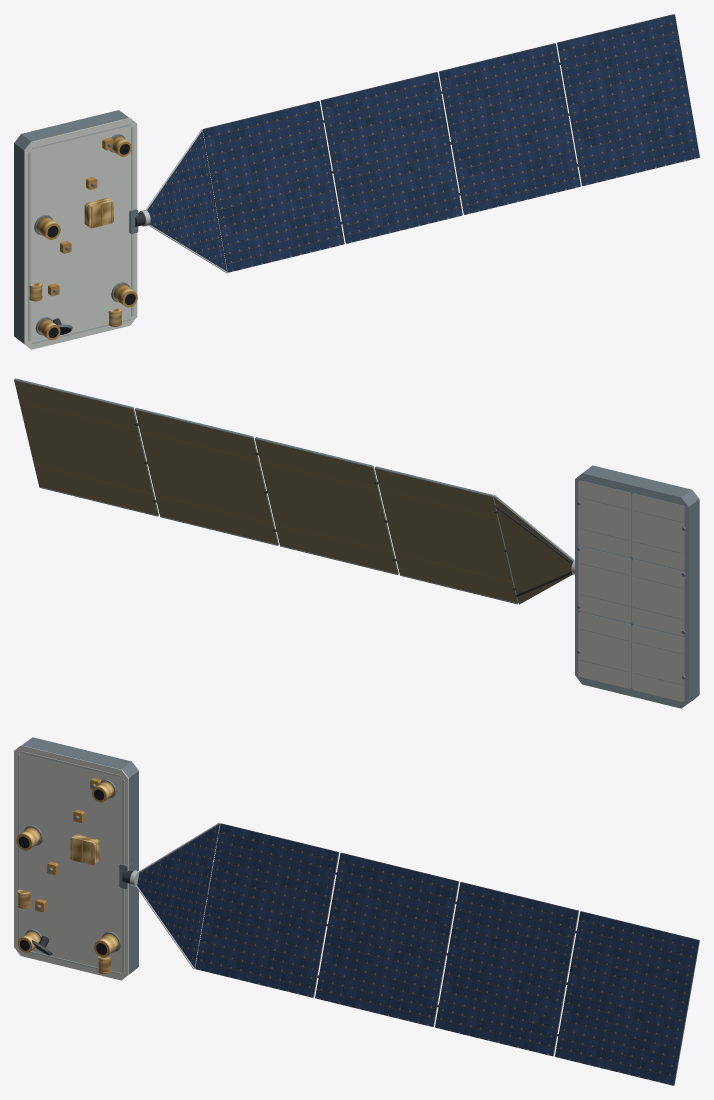
Rendered from qianfan.obj.
3 renders of one model, top to bottom at view 1: azimuth 30°, elevation 25°; view 2: azimuth 150°, elevation 25°; view 3: azimuth 330°, elevation 25°, orthographic.
Visible parts, largest first — view 1: Flat_stackable_bus, Flexible_photovoltaic_bay_4, Flexible_photovoltaic_bay_2, Flexible_photovoltaic_bay_3, Flexible_photovoltaic_bay_1, Tapered_solar_wing_root, Zenith_equipment_deck; view 2: Nadir_antenna_face, Flexible_photovoltaic_bay_4, Flexible_photovoltaic_bay_3, Flexible_photovoltaic_bay_2, Flexible_photovoltaic_bay_1, Flat_stackable_bus, Tapered_solar_wing_root; view 3: Flat_stackable_bus, Flexible_photovoltaic_bay_4, Flexible_photovoltaic_bay_2, Flexible_photovoltaic_bay_1, Flexible_photovoltaic_bay_3, Tapered_solar_wing_root, Zenith_equipment_deck.
Part boxes in pixels (x1=…): Flat_stackable_bus: x1=14, y1=110, x2=137, y2=349; Flexible_photovoltaic_bay_4: x1=557, y1=14, x2=699, y2=185; Flexible_photovoltaic_bay_2: x1=320, y1=72, x2=462, y2=243; Flexible_photovoltaic_bay_3: x1=439, y1=43, x2=580, y2=214; Flexible_photovoltaic_bay_1: x1=202, y1=101, x2=344, y2=272; Tapered_solar_wing_root: x1=146, y1=129, x2=227, y2=273; Zenith_equipment_deck: x1=29, y1=134, x2=137, y2=340; Nadir_antenna_face: x1=576, y1=480, x2=685, y2=701; Flexible_photovoltaic_bay_4: x1=14, y1=378, x2=158, y2=516; Flexible_photovoltaic_bay_3: x1=135, y1=408, x2=278, y2=545; Flexible_photovoltaic_bay_2: x1=254, y1=437, x2=398, y2=574; Flexible_photovoltaic_bay_1: x1=374, y1=466, x2=518, y2=604; Flat_stackable_bus: x1=575, y1=465, x2=699, y2=708; Tapered_solar_wing_root: x1=493, y1=495, x2=574, y2=604; Flat_stackable_bus: x1=14, y1=737, x2=138, y2=980; Flexible_photovoltaic_bay_4: x1=555, y1=911, x2=699, y2=1085; Flexible_photovoltaic_bay_2: x1=315, y1=852, x2=459, y2=1026; Flexible_photovoltaic_bay_1: x1=195, y1=823, x2=339, y2=997; Flexible_photovoltaic_bay_3: x1=435, y1=882, x2=578, y2=1056; Tapered_solar_wing_root: x1=136, y1=822, x2=220, y2=969; Zenith_equipment_deck: x1=16, y1=778, x2=120, y2=973.
Bounding box in the file's own units: 10 × 3 × 0.6944.
10 materials, 2 textured.
